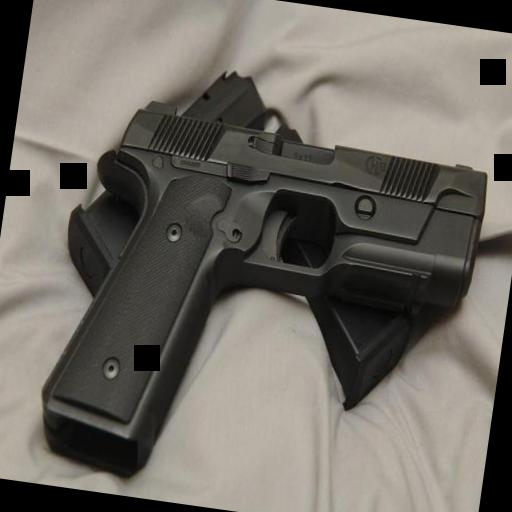Handgun: (23, 65, 501, 512)
